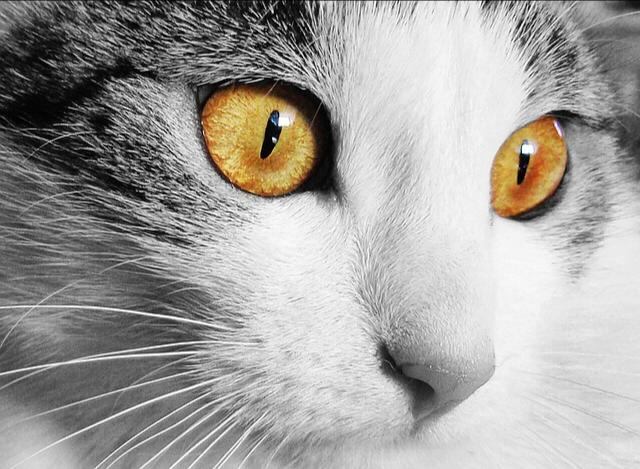cat: (0, 0, 638, 468)
